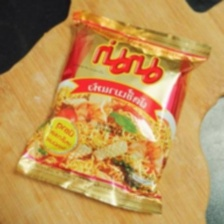snack: (7, 4, 217, 221)
